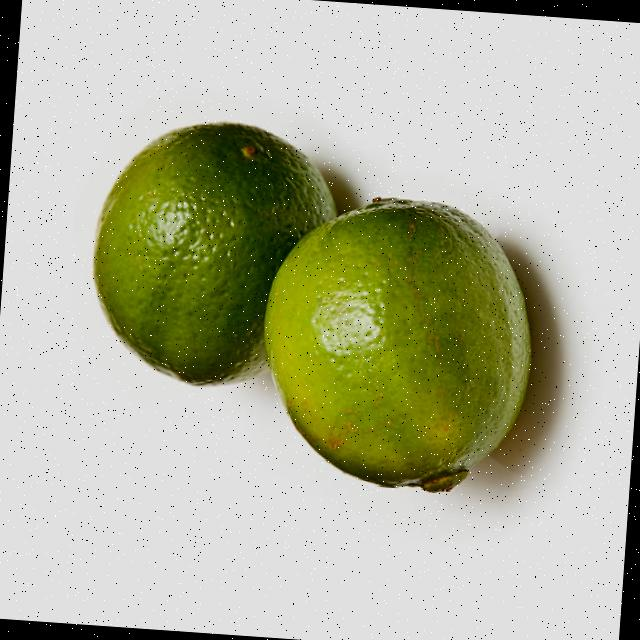Unripe: (255, 186, 544, 500), (84, 111, 342, 396)
